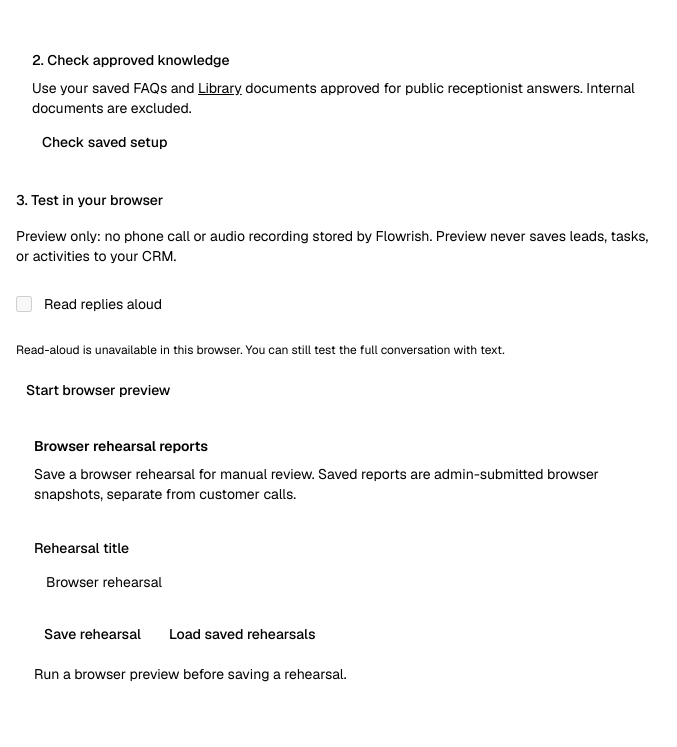
Scenario: receptionist onboarding and browser preview › keeps conversation controls usable without speech playback support
This screenshot has width=677, height=747.
(page scrolled)
Check: the text "Read-aloud is unavailable in this browser" is shown, box top-left (16, 342), bottom-right (505, 358)
Check: the checkbox labelled "Read replies aloud" is disabled, box top-left (16, 296), bottom-right (32, 312)
What coordinates should you click on to do the following:
click the button "Start browser preview"
I would click on:
 (98, 390)
Its box is top-left (16, 374), bottom-right (180, 406).
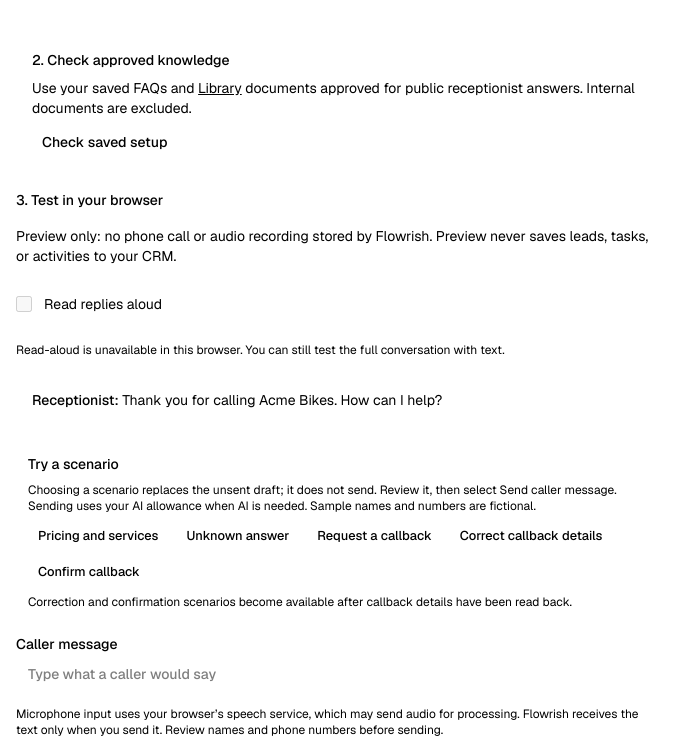
Check: the text "Thank you for calling Acme Bikes. How can I help?" is shown, box top-left (122, 391), bottom-right (442, 409)
Check: the field labelled "Caller message" is enabled, box top-left (16, 654), bottom-right (660, 694)
